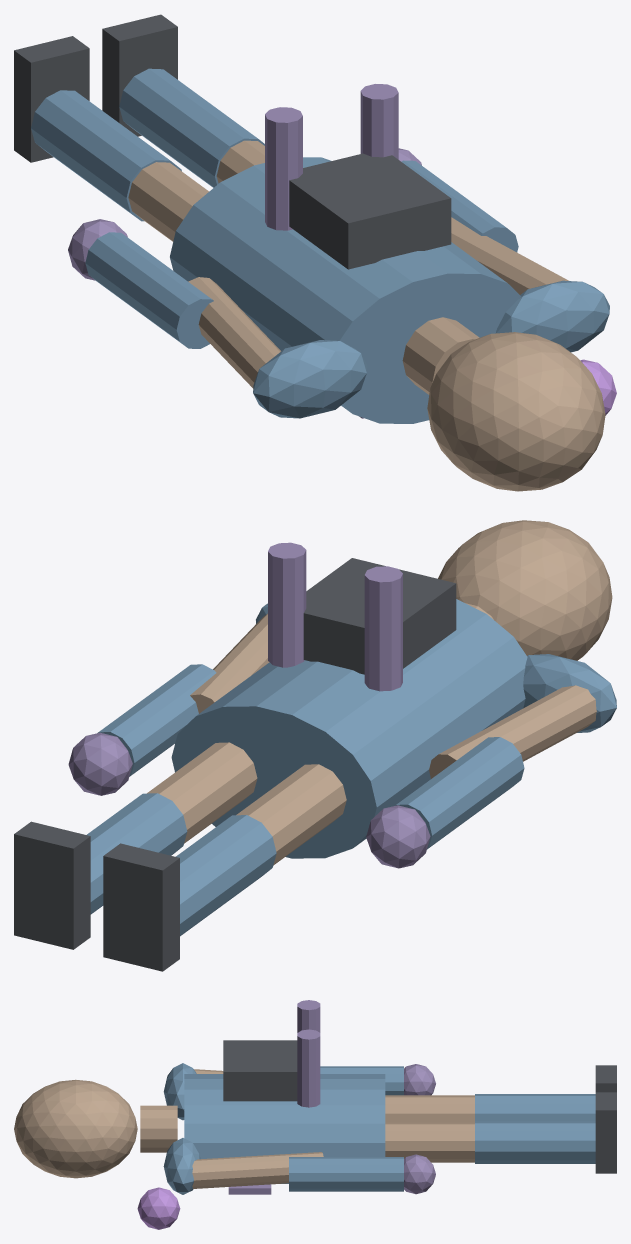
File: SWN-022_kael_windmere.glb
3 views of the same model, one above another, from view 1: azimuth 30°, elevation 25°; view 2: azimuth 150°, elevation 25°; view 3: azimuth 270°, elevation 25° (orthographic). The views are drawn at different scales.
Visible parts, largest first — view 1: body_spine, head, back_thruster_pack, greave_-1, greave_1, forearm_gauntlet_-1, shoulder_plate_-1, boot_-1, shoulder_plate_1, boot_1, upper_arm_-1, aether_thruster_-1 (+8 smaller); view 2: body_spine, head, back_thruster_pack, boot_-1, boot_1, greave_-1, forearm_gauntlet_-1, thigh_1, thigh_-1, upper_arm_-1, forearm_gauntlet_1, greave_1 (+6 smaller); view 3: body_spine, head, greave_1, back_thruster_pack, forearm_gauntlet_1, thigh_1, greave_-1, upper_arm_1, thigh_-1, aether_thruster_1, boot_1, neck (+9 smaller).
Part boxes in pixels (<box>): body_spine: <box>170,157,521,423</box>; head: <box>427,332,605,491</box>; back_thruster_pack: <box>289,153,451,269</box>; greave_-1: <box>31,90,181,221</box>; greave_1: <box>119,68,264,187</box>; forearm_gauntlet_-1: <box>85,232,213,348</box>; shoulder_plate_-1: <box>253,340,367,418</box>; boot_-1: <box>14,36,89,162</box>; shoulder_plate_1: <box>496,280,609,352</box>; boot_1: <box>102,14,177,136</box>; upper_arm_-1: <box>188,277,280,388</box>; aether_thruster_-1: <box>265,107,302,230</box>; body_spine: <box>171,599,527,858</box>; head: <box>438,520,612,660</box>; back_thruster_pack: <box>303,558,456,674</box>; boot_-1: <box>103,843,179,971</box>; boot_1: <box>14,821,90,949</box>; greave_-1: <box>176,815,276,936</box>; forearm_gauntlet_-1: <box>395,737,524,849</box>; thigh_1: <box>147,742,257,843</box>; thigh_-1: <box>236,764,346,865</box>; upper_arm_-1: <box>429,685,596,778</box>; forearm_gauntlet_1: <box>97,664,216,776</box>; greave_1: <box>87,793,187,914</box>; body_spine: <box>184,1074,385,1183</box>; head: <box>14,1079,137,1178</box>; greave_1: <box>475,1121,595,1163</box>; back_thruster_pack: <box>223,1040,297,1101</box>; forearm_gauntlet_1: <box>289,1157,403,1191</box>; thigh_1: <box>385,1122,474,1162</box>; greave_-1: <box>475,1094,595,1121</box>; upper_arm_1: <box>192,1152,323,1188</box>; thigh_-1: <box>385,1095,474,1122</box>; aether_thruster_1: <box>297,1029,320,1107</box>; boot_1: <box>595,1092,616,1173</box>; neck: <box>140,1105,177,1152</box>.
Bounding box in the file's own units: 0.9708 × 0.69 × 2.25.
